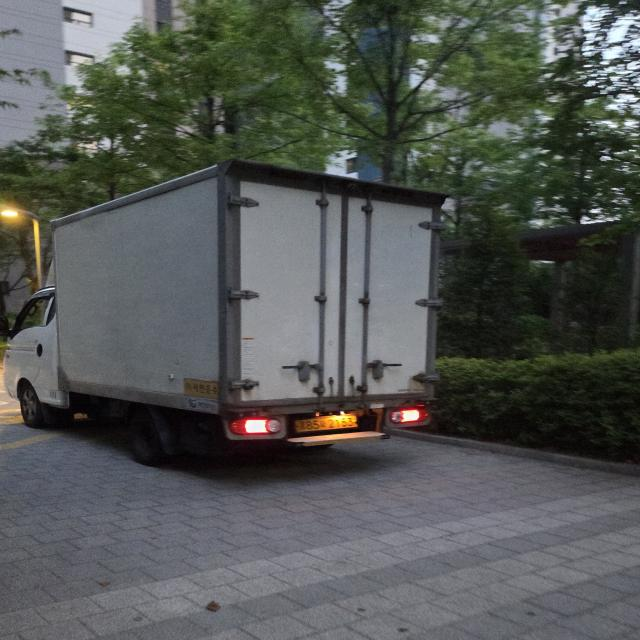car: (0, 156, 472, 473)
